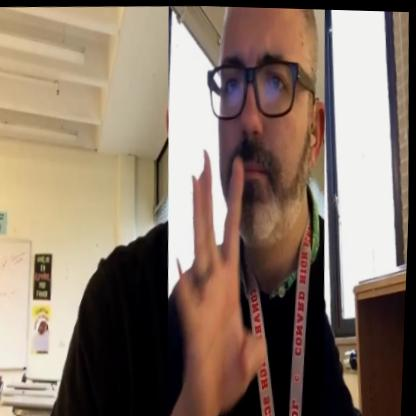Talk: (157, 4, 339, 416)
